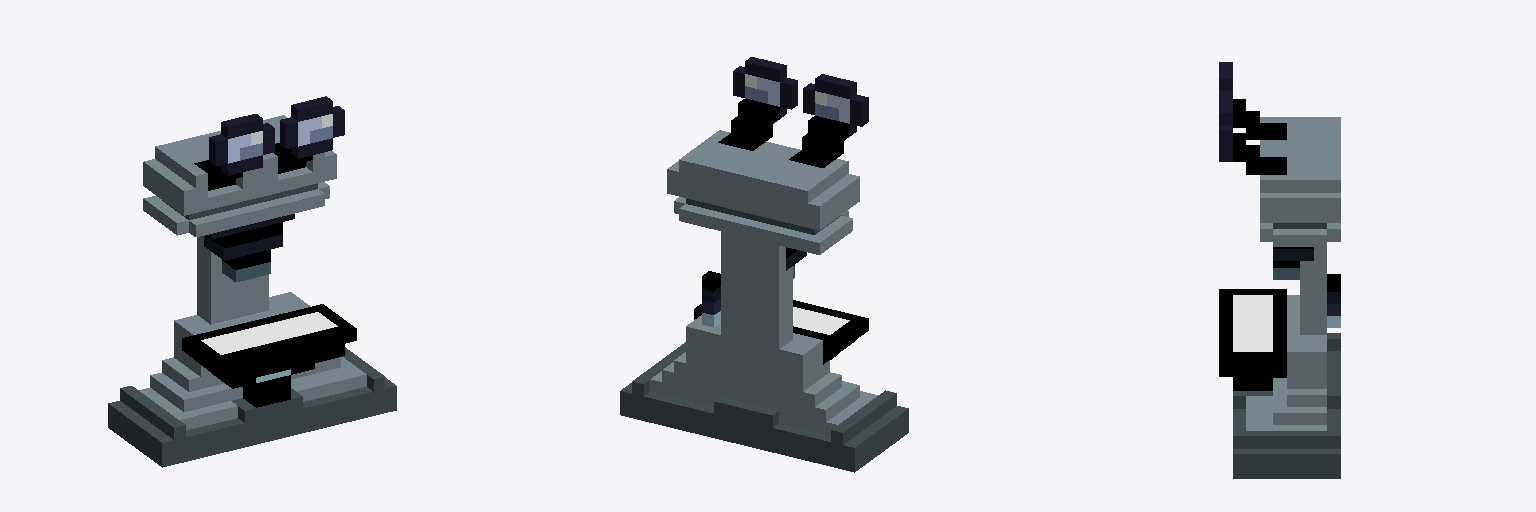
3 views of the same model, side by side, from view 1: azimuth 30°, elevation 25°; view 2: azimuth 150°, elevation 25°; view 3: azimuth 270°, elevation 25° (orthographic).
Visible parts, largest first — view 1: MicroscopeLab; view 2: MicroscopeLab; view 3: MicroscopeLab.
Boxes of the visible parts, x1,y1,x2,y2 form: MicroscopeLab: [108, 96, 396, 467]; MicroscopeLab: [620, 57, 908, 472]; MicroscopeLab: [1219, 62, 1340, 478].
Size of the model in its own units: 2 by 2.7 by 0.9.
Materials: 1 (1 with a texture image).